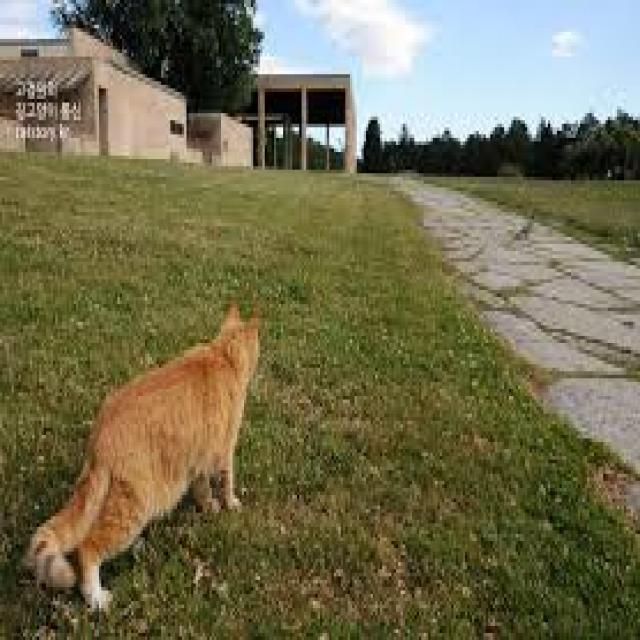cat: (0, 280, 343, 568)
